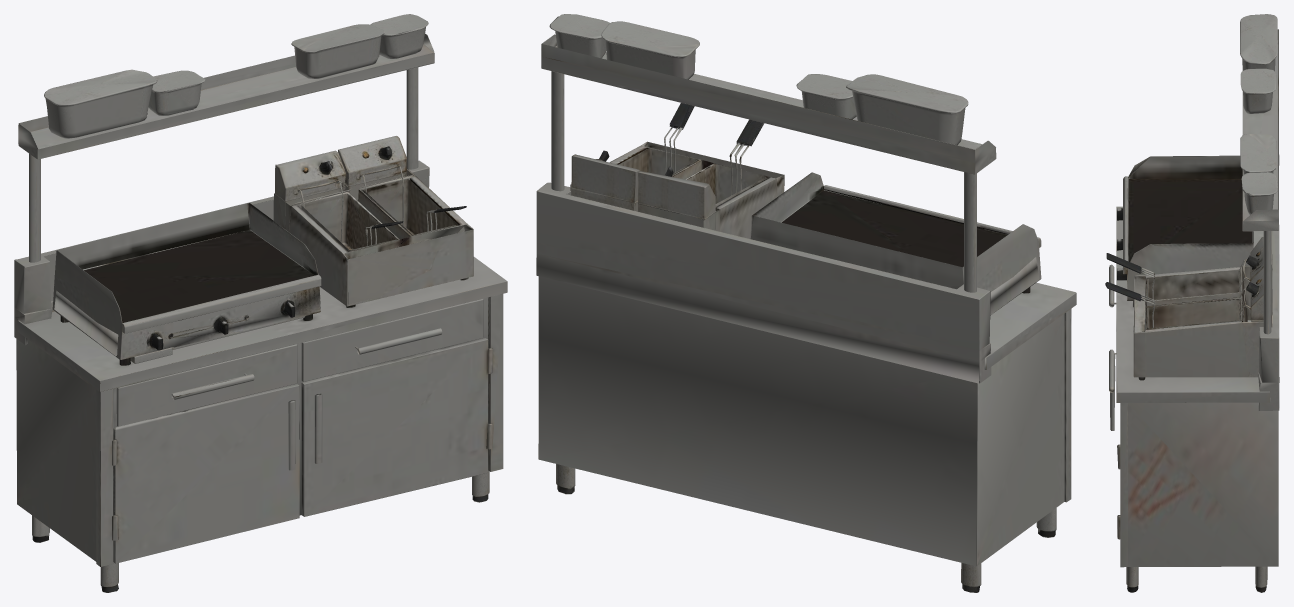
The model's file is shop-backbar-t25.glb.
3 views of the same model, side by side, from view 1: azimuth 30°, elevation 25°; view 2: azimuth 150°, elevation 25°; view 3: azimuth 270°, elevation 25° (orthographic). The views are drawn at different scales.
Visible parts, largest first — view 1: shop-backbar-t25; view 2: shop-backbar-t25; view 3: shop-backbar-t25.
Part boxes in pixels (bbox=[...]): shop-backbar-t25: bbox=[14, 14, 507, 592]; shop-backbar-t25: bbox=[536, 14, 1076, 592]; shop-backbar-t25: bbox=[1105, 14, 1279, 592].
Bounding box in the file's own units: 1.77 × 1.83 × 0.7.
Materials: 1 (1 with a texture image).
